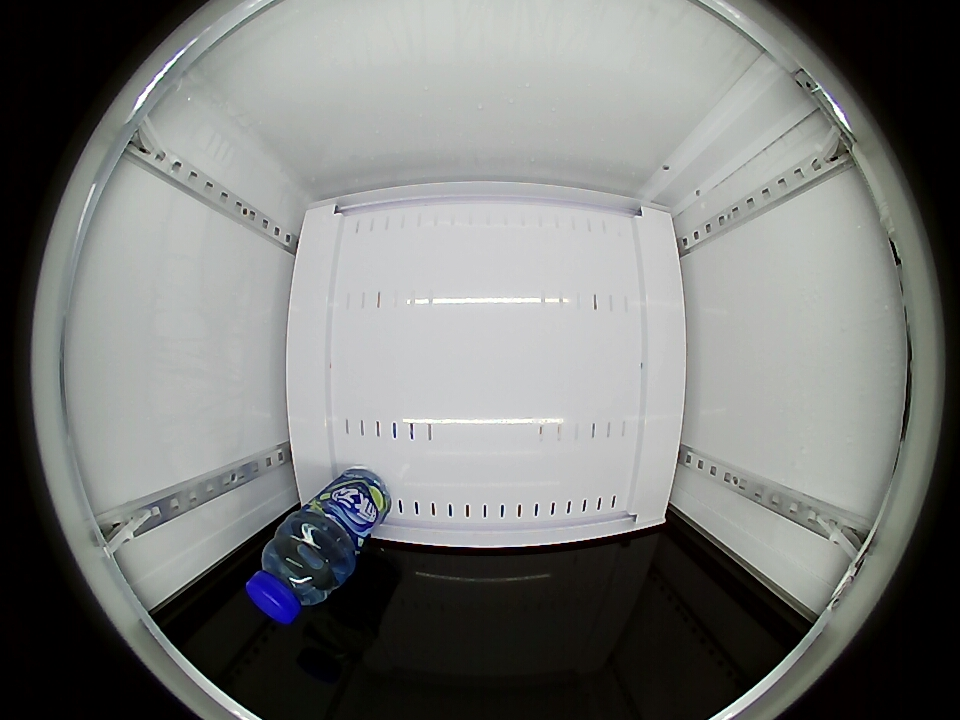maidong: (245, 519, 349, 624)
